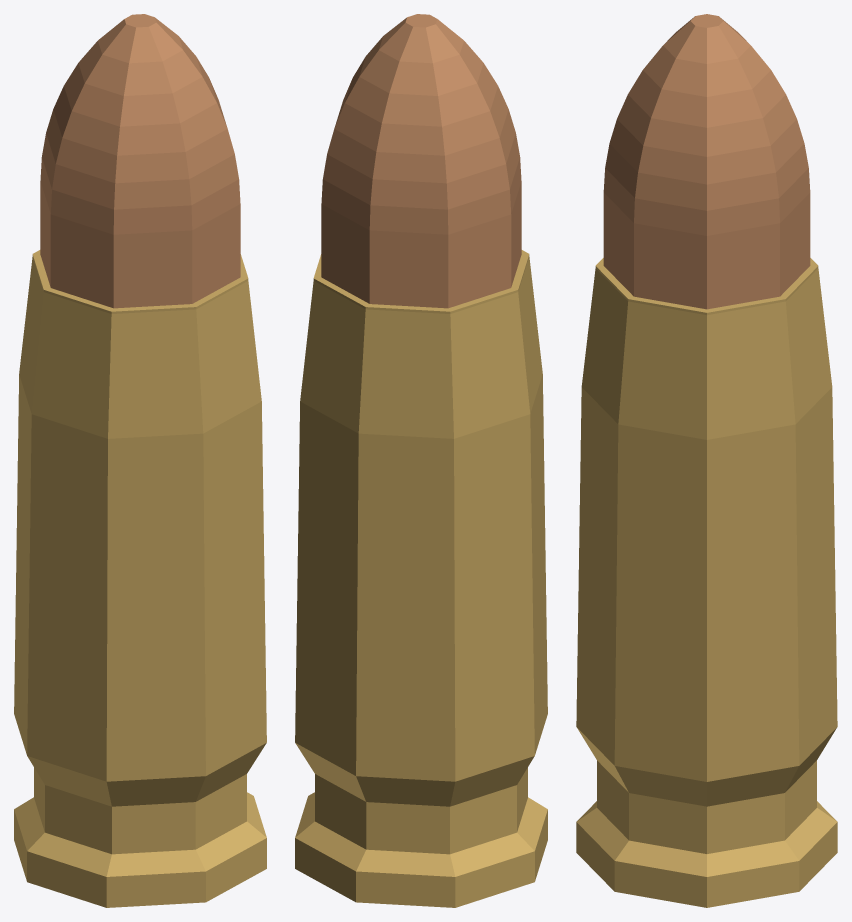
Rendered from round_762x25.glb.
3 renders of one model, left to right at view 1: azimuth 30°, elevation 25°; view 2: azimuth 150°, elevation 25°; view 3: azimuth 270°, elevation 25°, orthographic.
Parts seen in each view (by area): view 1: round_762x25; view 2: round_762x25; view 3: round_762x25.
Boxes of the visible parts, bbox=[...] form: round_762x25: bbox=[14, 14, 266, 907]; round_762x25: bbox=[295, 14, 547, 907]; round_762x25: bbox=[576, 14, 837, 907].
Bounding box in the file's own units: 0.00996 × 0.035 × 0.00996.
